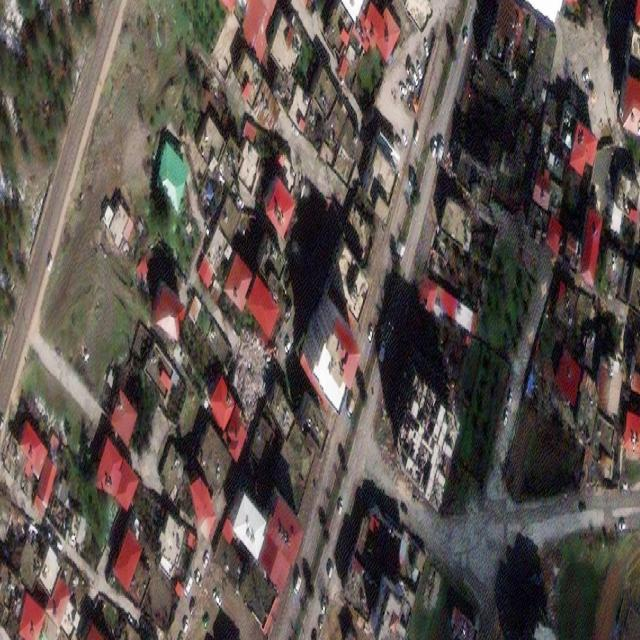Rubble: (234, 329, 266, 412)
